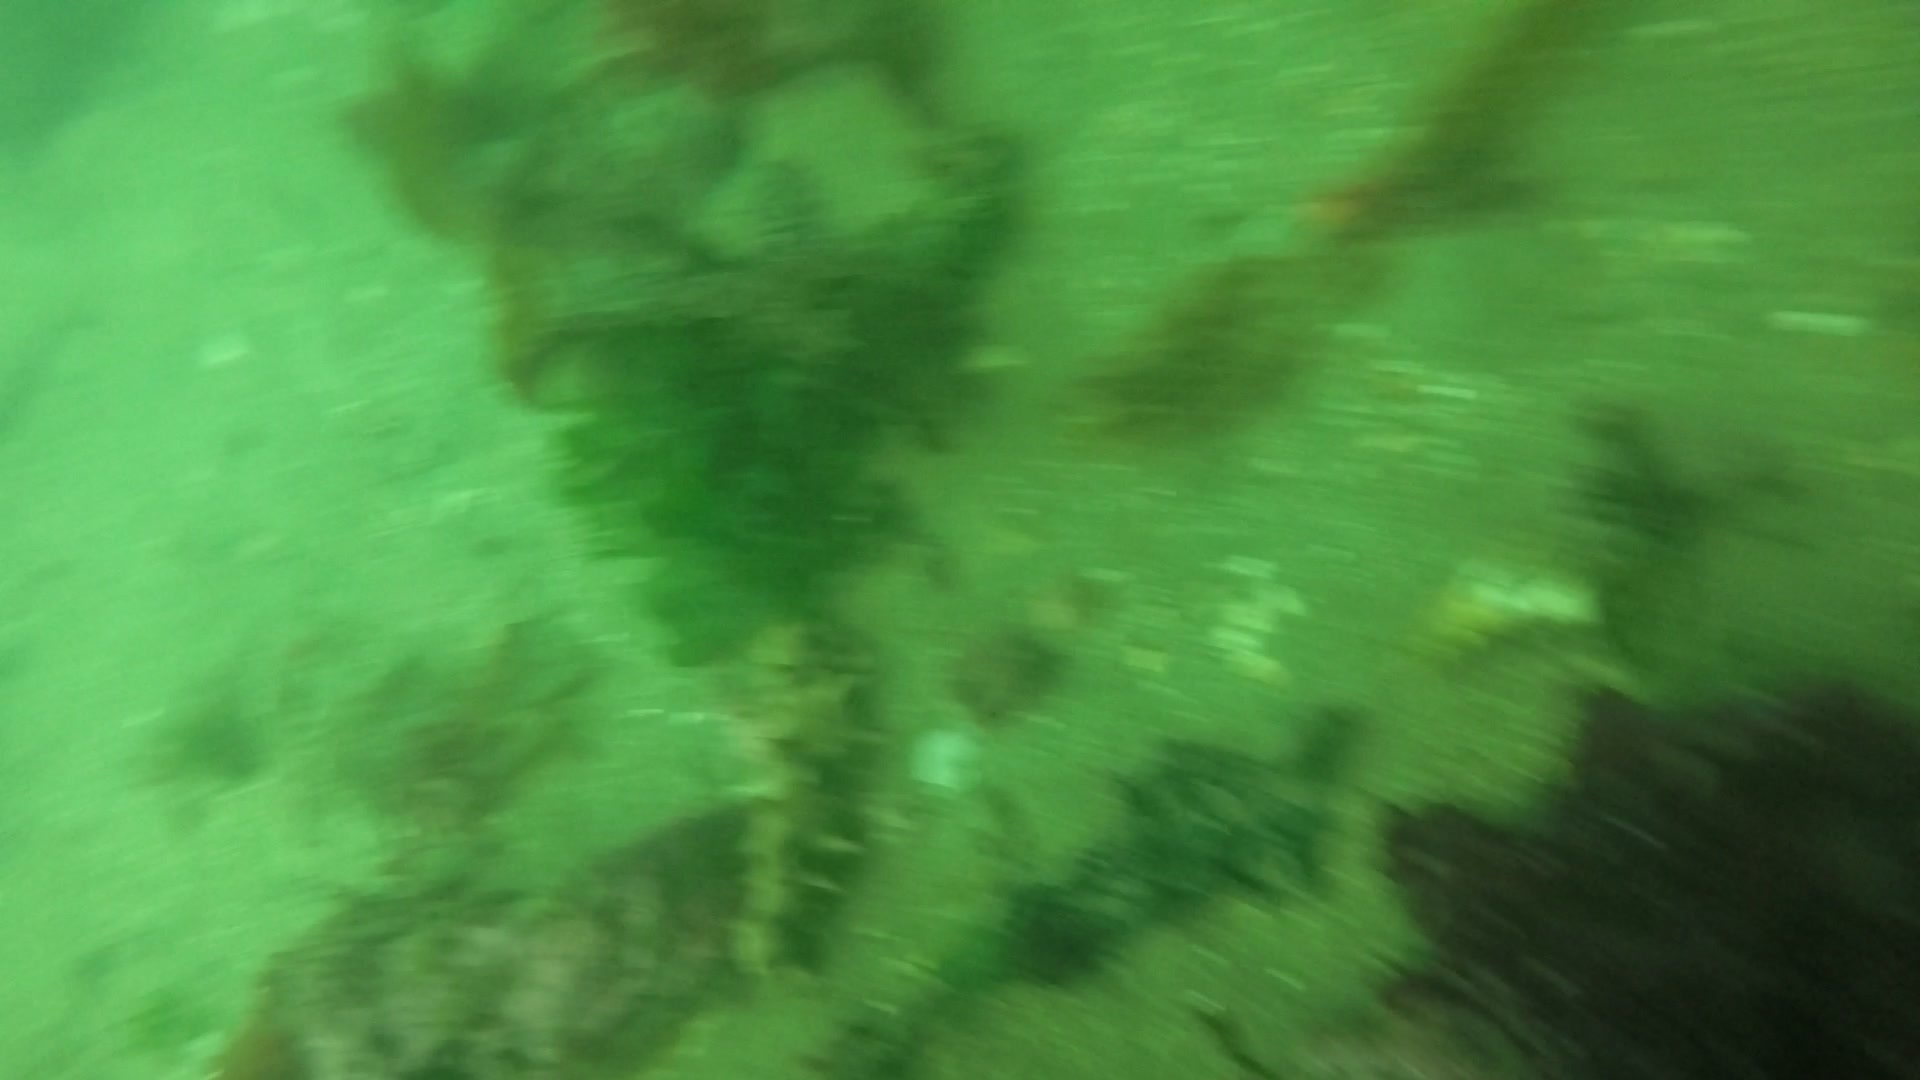holothurian: (715, 611, 884, 978)
